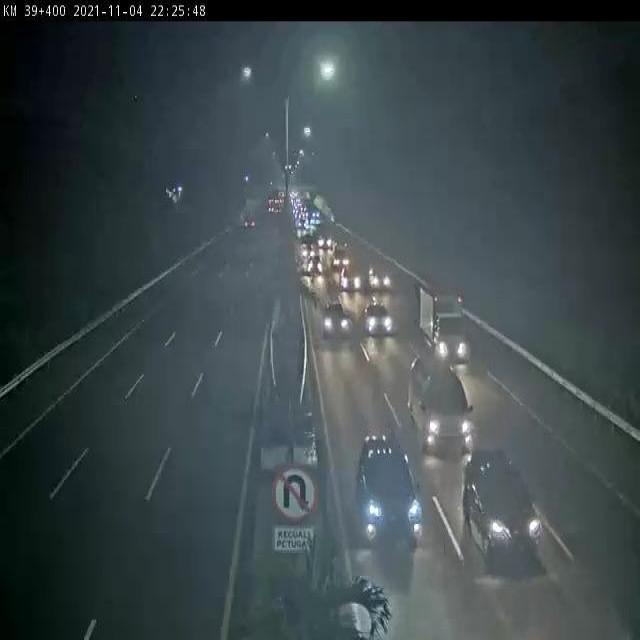bus-s-: (409, 356, 475, 453)
car: (462, 448, 542, 557), (355, 438, 422, 542), (320, 295, 349, 337), (362, 300, 394, 337), (338, 261, 364, 295), (366, 261, 392, 291)
truck-m-: (421, 288, 470, 364)
